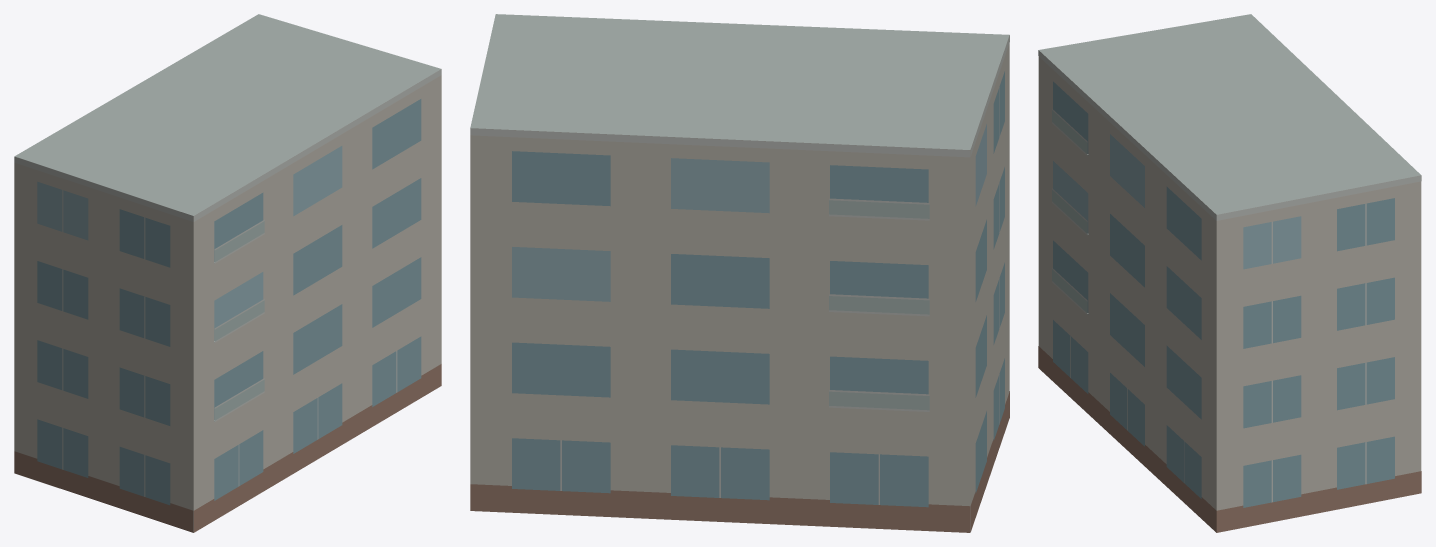
The model's file is survey-upis-32661127.glb.
3 renders of one model, left to right at view 1: azimuth 30°, elevation 25°; view 2: azimuth 150°, elevation 25°; view 3: azimuth 270°, elevation 25°, orthographic. The views are drawn at different scales.
Visible parts, largest first — view 1: survey-upis-32661127.tmp; view 2: survey-upis-32661127.tmp; view 3: survey-upis-32661127.tmp.
Boxes of the visible parts, box(x1,y1,x2,y2) form: survey-upis-32661127.tmp: box(14, 14, 441, 532); survey-upis-32661127.tmp: box(470, 14, 1009, 532); survey-upis-32661127.tmp: box(1038, 14, 1421, 532).
Size of the model in its own units: 17.35 by 12.8 by 13.98.
